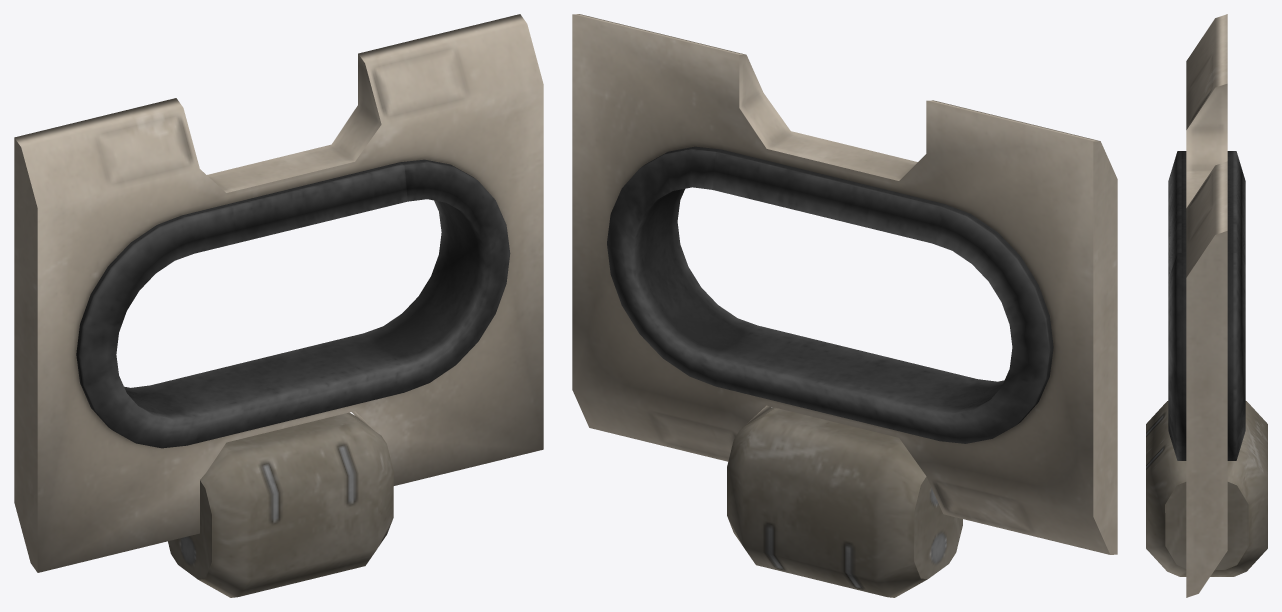
Rendered from ShutterSlatThinHinged.fbx.
3 views of the same model, side by side, from view 1: azimuth 30°, elevation 25°; view 2: azimuth 150°, elevation 25°; view 3: azimuth 270°, elevation 25° (orthographic). The views are drawn at different scales.
Visible parts, largest first — view 1: ShutterSlatThinHinged; view 2: ShutterSlatThinHinged; view 3: ShutterSlatThinHinged.
Boxes of the visible parts, x1=… form: ShutterSlatThinHinged: x1=14, y1=14, x2=543, y2=597; ShutterSlatThinHinged: x1=572, y1=14, x2=1117, y2=597; ShutterSlatThinHinged: x1=1146, y1=14, x2=1267, y2=597.
Bounding box in the file's own units: 103 × 94.72 × 24.46.
